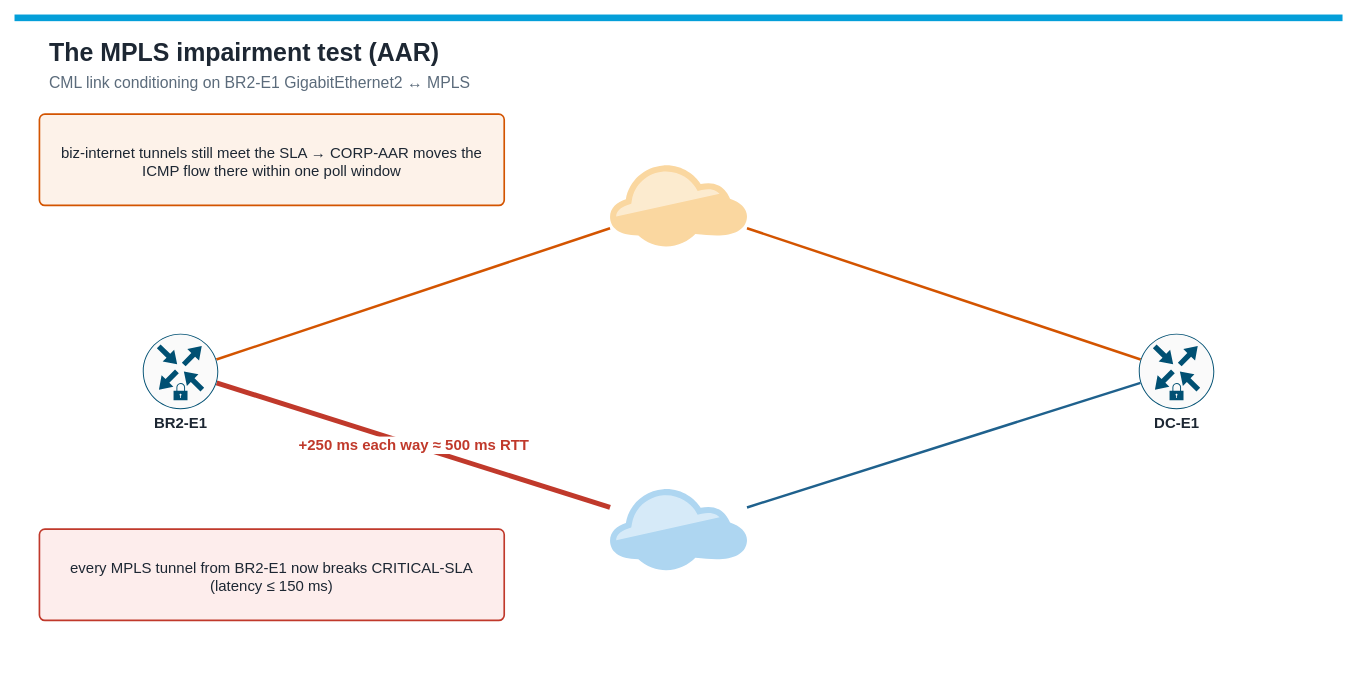
Image size: 1356x684. Some labels were removed from this diagram. Each missing label, with the box of its shape:
INET: (610, 164, 747, 246)
MPLS: (610, 488, 747, 570)
